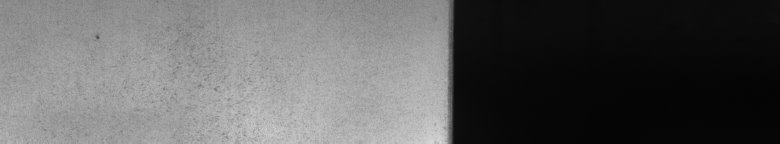ib: (163, 72, 248, 135)
